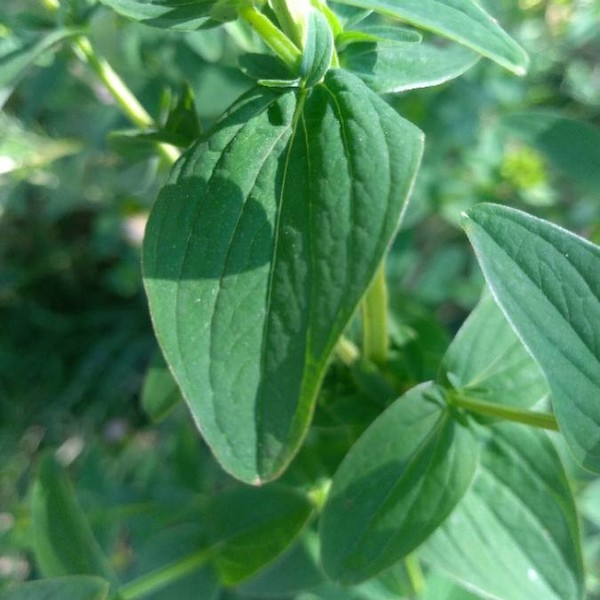obstacle: (136, 25, 575, 556)
